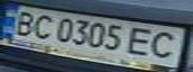0: (87, 19, 109, 51), (51, 15, 75, 44)
3: (69, 17, 90, 47)
5: (103, 21, 130, 53)
B: (6, 8, 42, 36)
C: (145, 29, 187, 61), (27, 11, 57, 40)
E: (124, 25, 160, 57)
